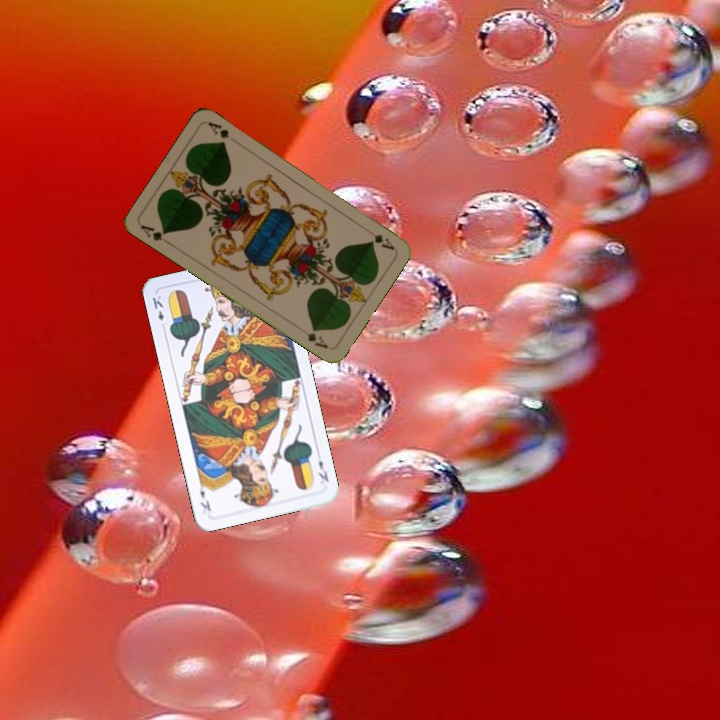EK: (148, 291, 168, 332), (314, 456, 331, 485)
GA: (137, 221, 174, 247), (370, 230, 397, 253)
